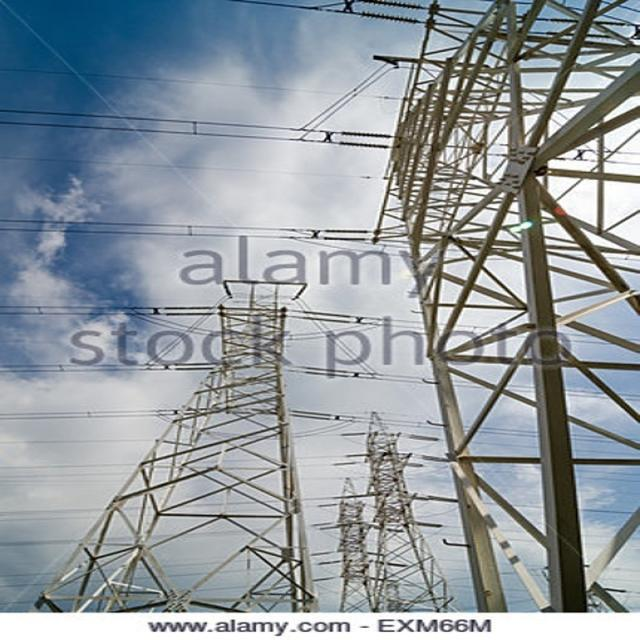non-critical vegetation: (342, 9, 632, 608), (48, 282, 312, 613), (344, 405, 448, 608)
